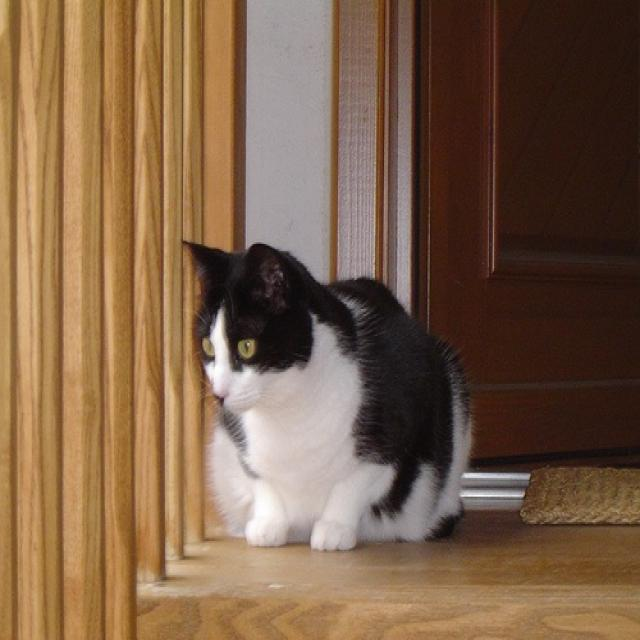cat: (177, 227, 475, 550)
